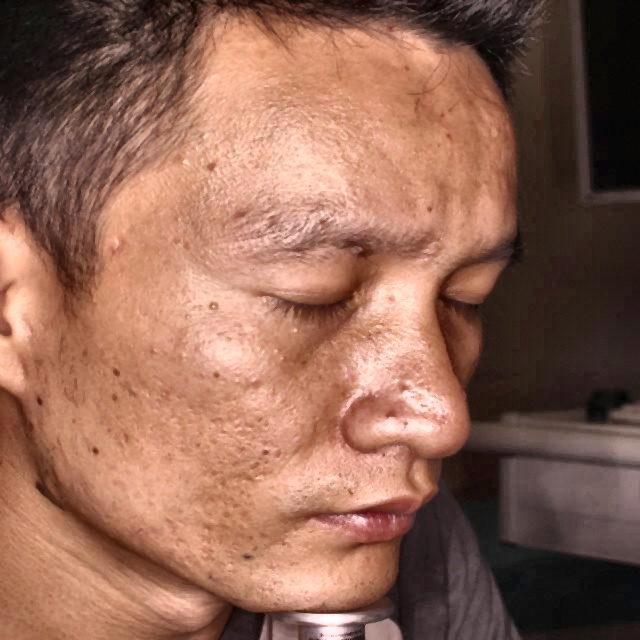comedone: (101, 232, 141, 265)
